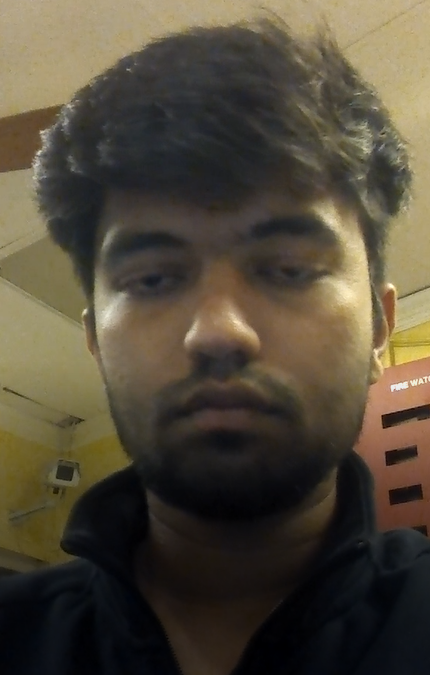Half Asleep: (98, 222, 340, 319)
